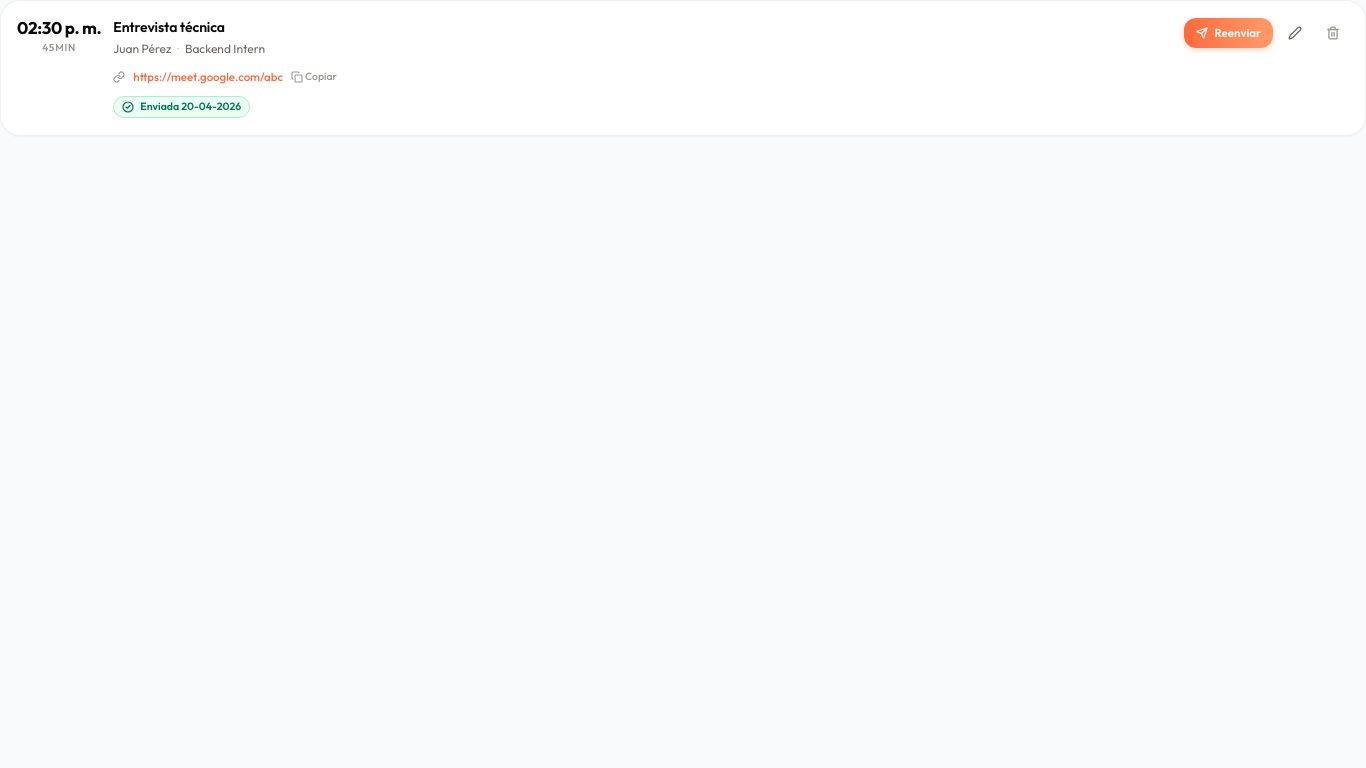
InterviewListItem › modal de eliminación › muestra warning cuando sentToChat=true
What coordinates should you click on to do the following:
click the button titled "Eliminar"
I would click on:
 (1333, 33)
Its box is x1=1317 y1=17 x2=1349 y2=49.
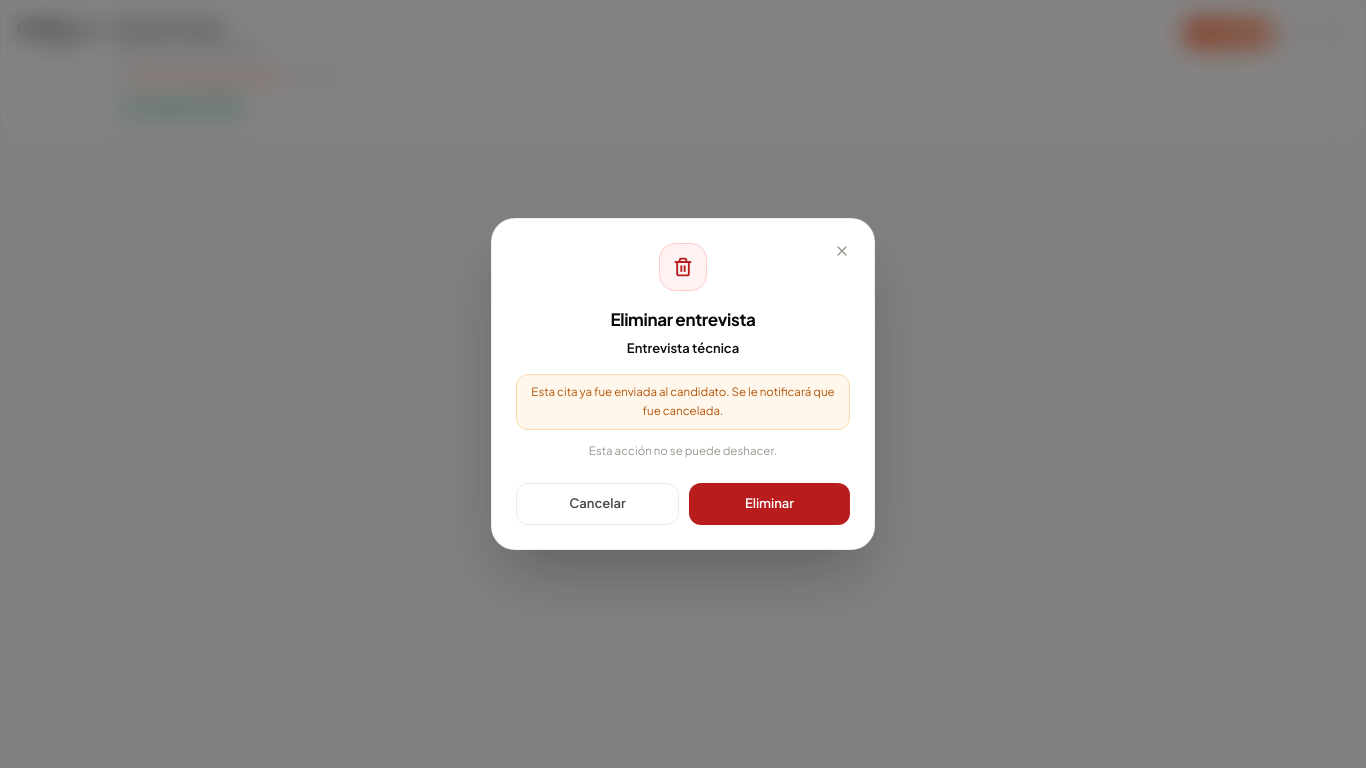
Check: the text "Esta cita ya fue enviada al candidato" is shown, box x1=531 y1=384 x2=835 y2=418
